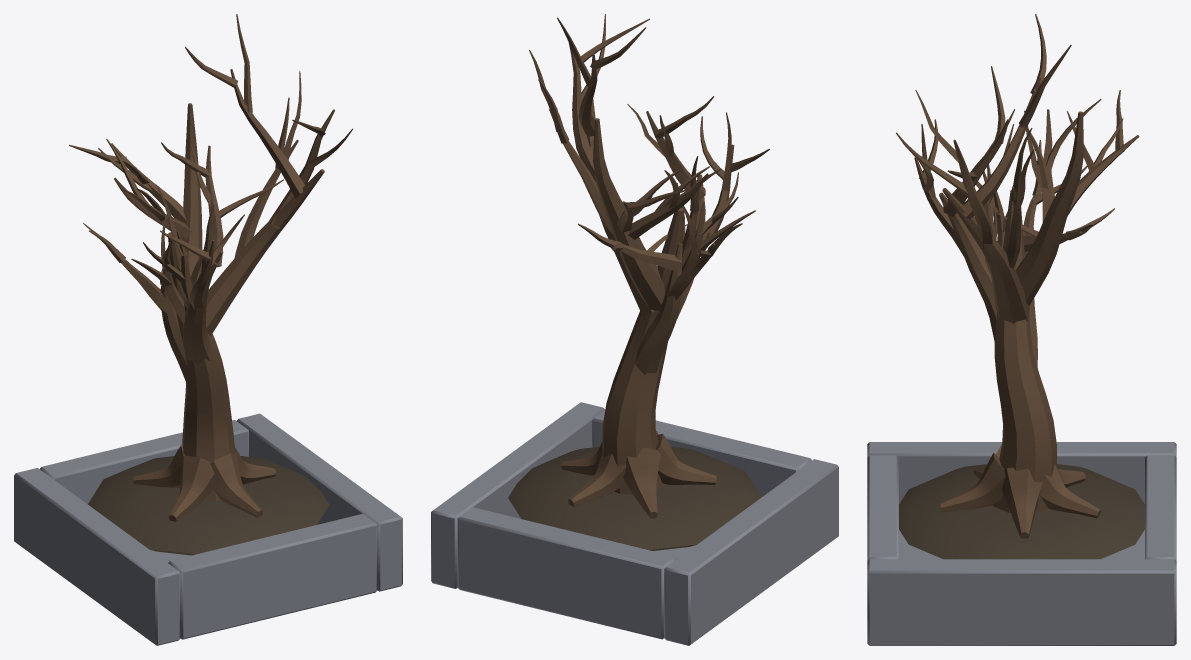
File: gu_albero_secco.fbx
3 renders of one model, left to right at view 1: azimuth 30°, elevation 25°; view 2: azimuth 150°, elevation 25°; view 3: azimuth 270°, elevation 25°, orthographic. The views are drawn at different scales.
Parts seen in each view (by area): view 1: gu_albero_secco_basalto, gu_albero_secco_legno, gu_albero_secco_terra; view 2: gu_albero_secco_basalto, gu_albero_secco_legno, gu_albero_secco_terra; view 3: gu_albero_secco_basalto, gu_albero_secco_legno, gu_albero_secco_terra.
Part boxes in pixels (x1,y1,x2,y2): gu_albero_secco_basalto: (14,413,402,645); gu_albero_secco_legno: (69,14,352,521); gu_albero_secco_terra: (88,456,329,555); gu_albero_secco_basalto: (431,402,838,645); gu_albero_secco_legno: (529,14,769,518); gu_albero_secco_terra: (508,446,761,550); gu_albero_secco_basalto: (867,442,1176,645); gu_albero_secco_legno: (896,14,1139,538); gu_albero_secco_terra: (899,464,1144,559).
Size of the model in its own units: 1.56 by 3.14 by 1.56.
